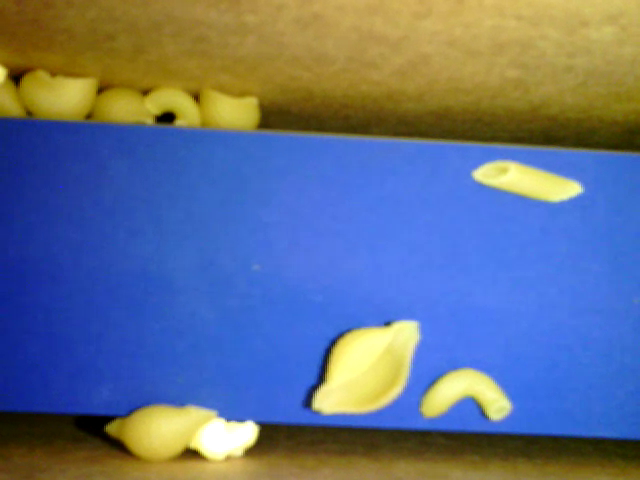elbow: (417, 367, 513, 420), (143, 86, 202, 127)
penne: (468, 158, 584, 203)
shell: (14, 70, 98, 121), (197, 83, 260, 128), (90, 85, 157, 124)
tortellini: (309, 318, 420, 416), (105, 401, 217, 463)
